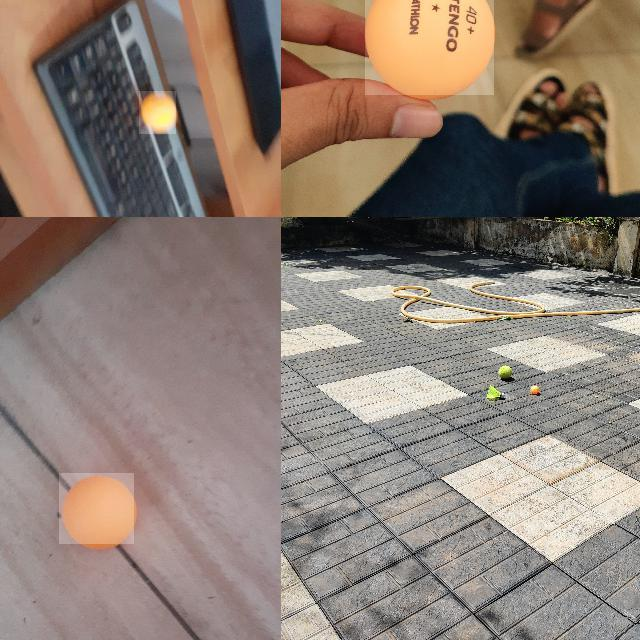ping-pong-ball: (364, 0, 496, 97), (59, 472, 135, 546), (139, 91, 177, 135), (530, 385, 538, 393)
